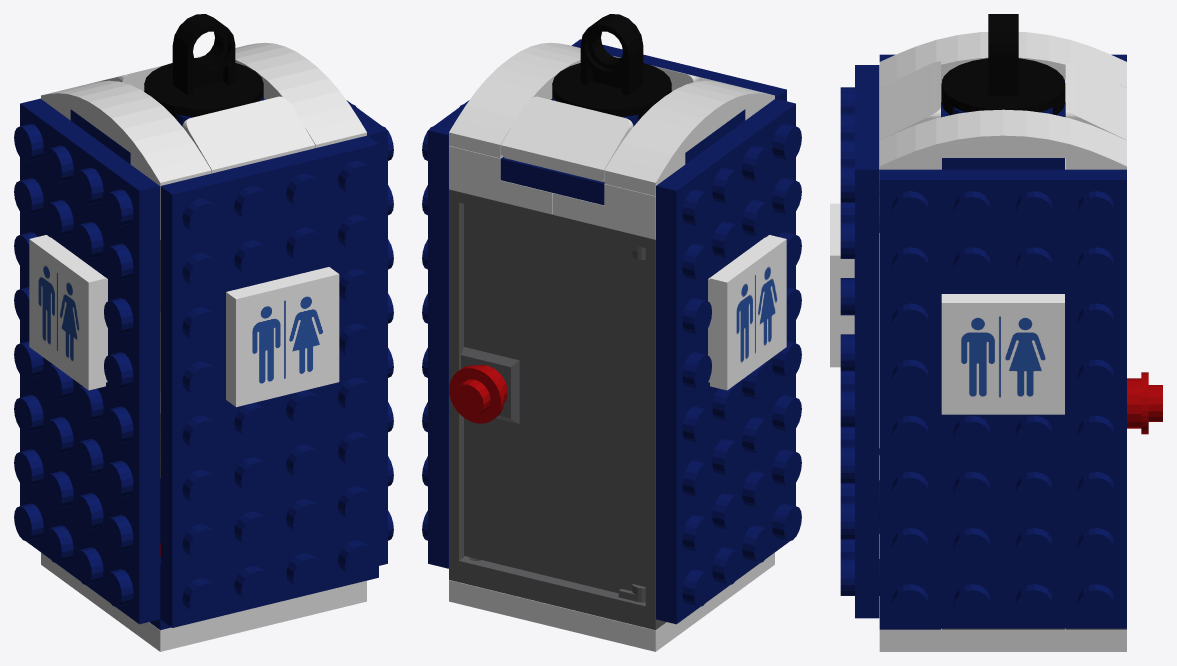
Rendered from Toilet.FBX.
3 views of the same model, side by side, from view 1: azimuth 30°, elevation 25°; view 2: azimuth 150°, elevation 25°; view 3: azimuth 270°, elevation 25° (orthographic). The views are drawn at different scales.
Parts seen in each view (by area): view 1: Baño; view 2: Baño; view 3: Baño.
Boxes of the visible parts, left/top/right/bottom form: Baño: left=14, top=14, right=393, bottom=651; Baño: left=422, top=14, right=801, bottom=651; Baño: left=830, top=14, right=1162, bottom=651.
Size of the model in its own units: 1.76 by 3.27 by 1.69.
7 materials, 1 textured.
